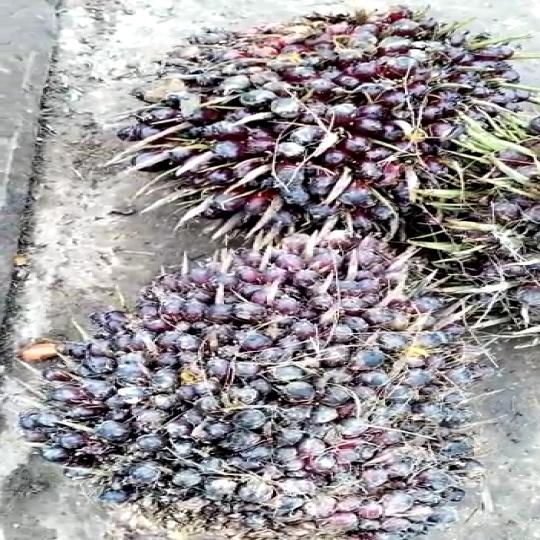kurang masak: (0, 227, 509, 539), (108, 2, 520, 252)
